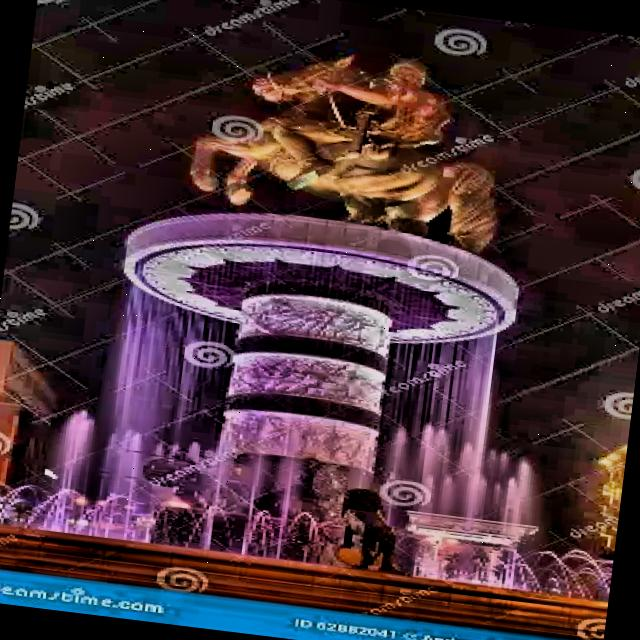alexander the great monument: (89, 21, 546, 574)
